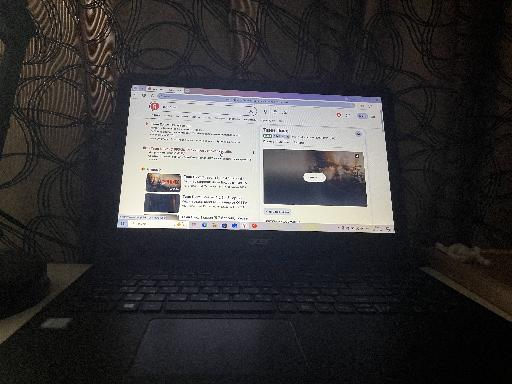yandex: (131, 98, 382, 220)
